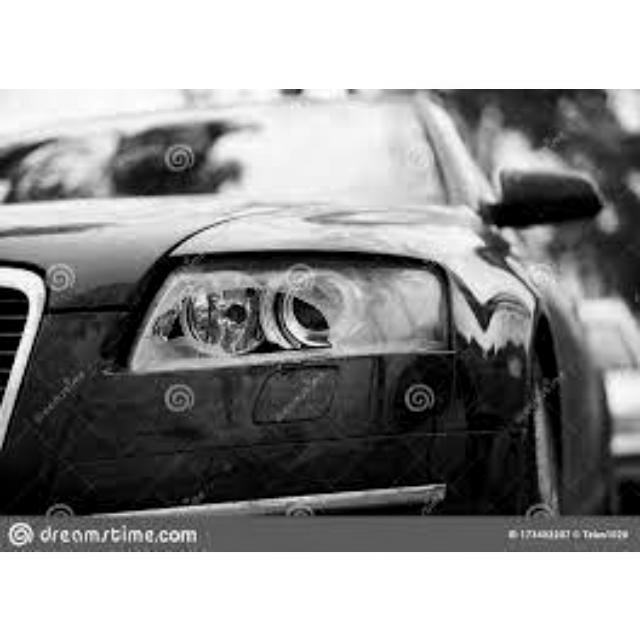Headlight-damage: (110, 234, 483, 362)
